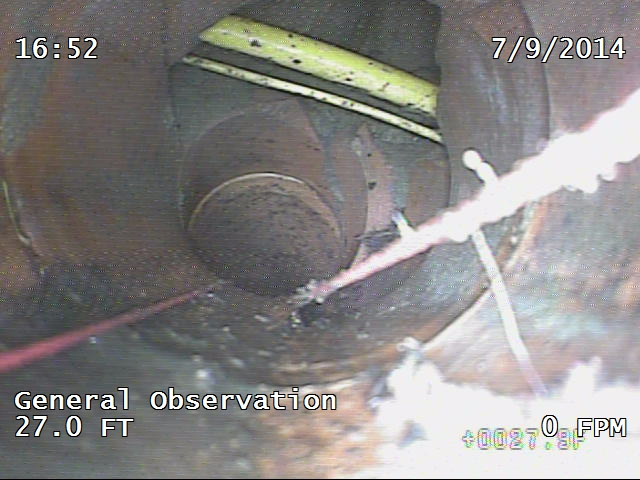cb: (142, 35, 464, 156), (187, 10, 468, 120)
